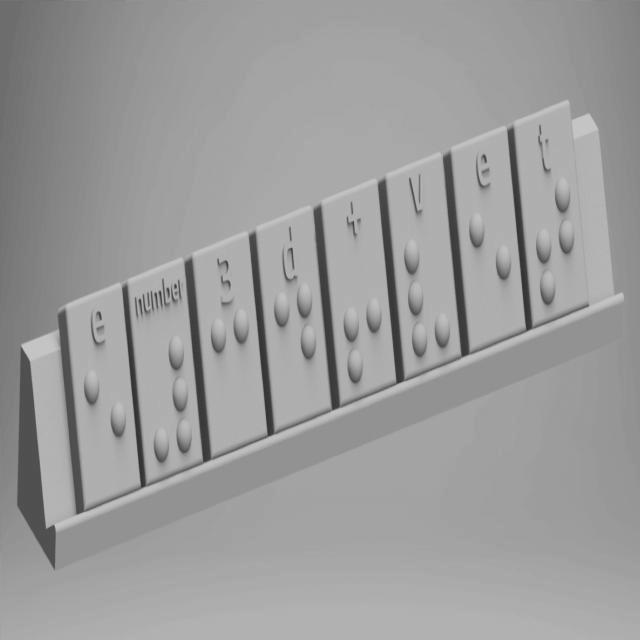braiile: (71, 335, 141, 510), (392, 208, 460, 377), (262, 266, 331, 430), (520, 161, 588, 323), (200, 289, 267, 453), (459, 185, 525, 350)
